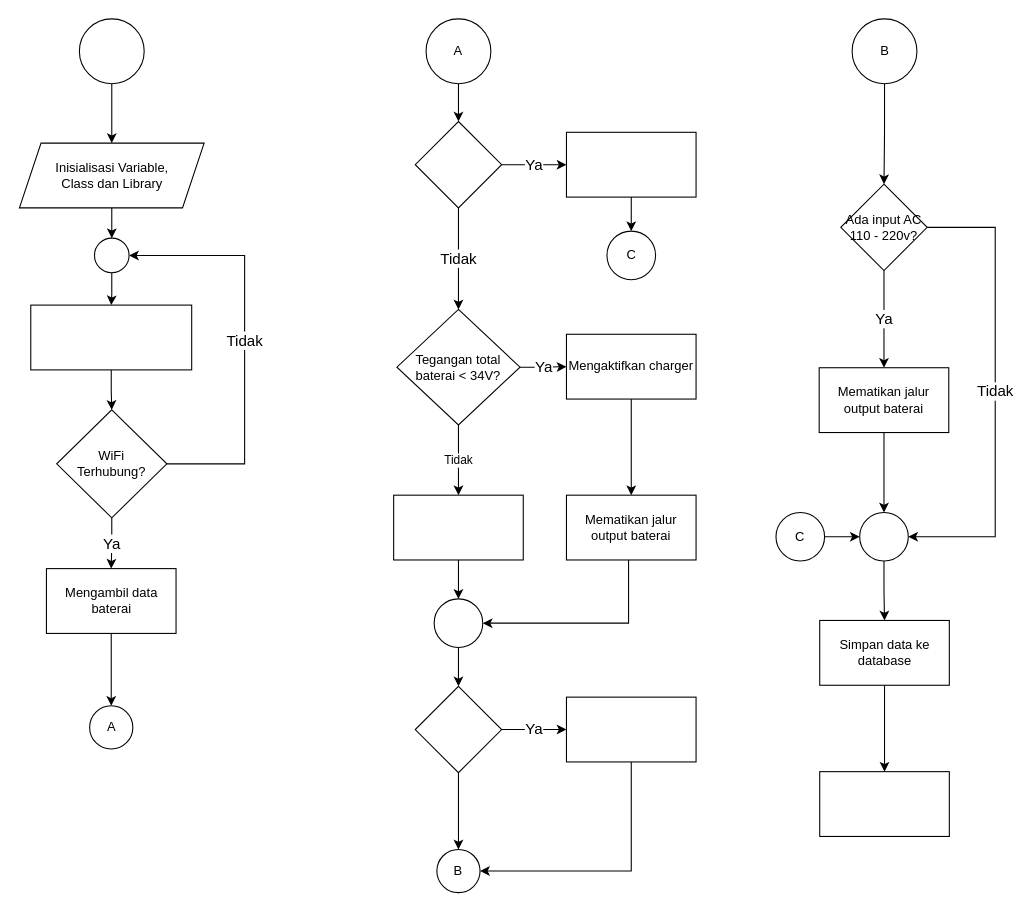
Some shapes in this 1031 by 912 pixel diagram are drawn without their labels. Each missing label, with the centre of its shape:
End: pixel 884 803
Inisialisasi WiFi dan melakukan Koneksi: pixel 111 337
Mematikan charger: pixel 630 729
Mematikan charger & jalur output baterai: pixel 630 164
Mengaktifkan jalur output baterai: pixel 458 527
Start: pixel 111 51
Suhu baterai >=60 && <=25 ?: pixel 458 164
Tegangan total baterai >= 36V?: pixel 458 729
